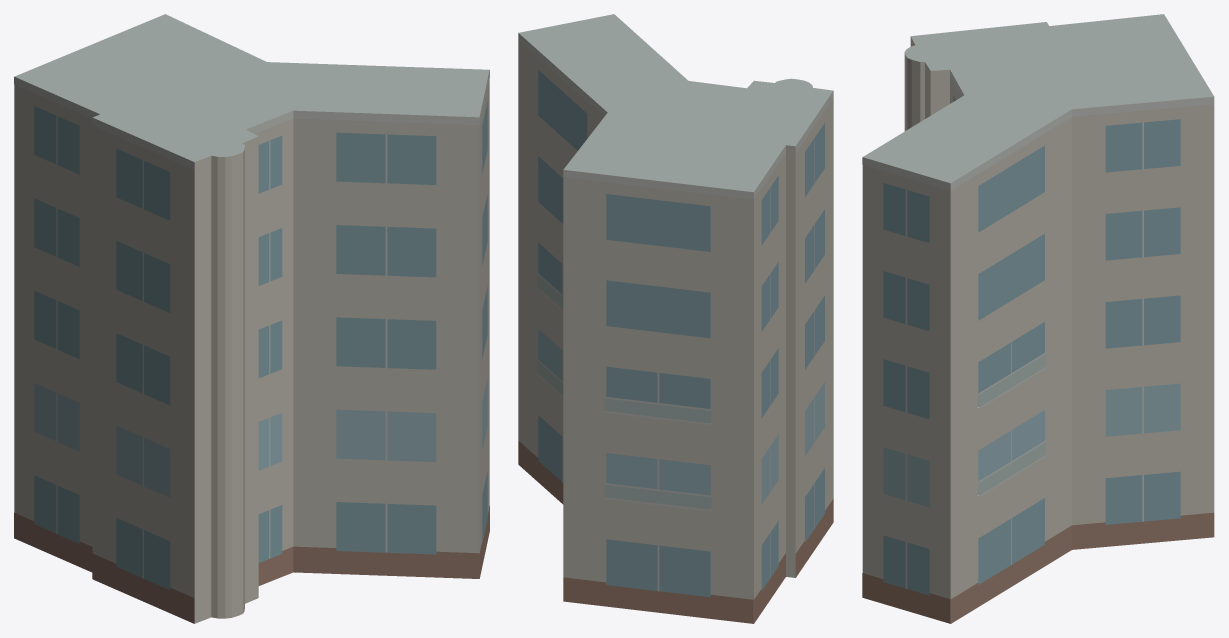
File: survey-upis-32515292.glb
3 views of the same model, side by side, from view 1: azimuth 30°, elevation 25°; view 2: azimuth 150°, elevation 25°; view 3: azimuth 270°, elevation 25° (orthographic). The views are drawn at different scales.
Visible parts, largest first — view 1: survey-upis-32515292.tmp; view 2: survey-upis-32515292.tmp; view 3: survey-upis-32515292.tmp.
Boxes of the visible parts, x1,y1,x2,y2 form: survey-upis-32515292.tmp: (14,14,489,623); survey-upis-32515292.tmp: (518,14,833,623); survey-upis-32515292.tmp: (862,14,1214,623).
Size of the model in its own units: 11.88 by 14.4 by 10.43.
